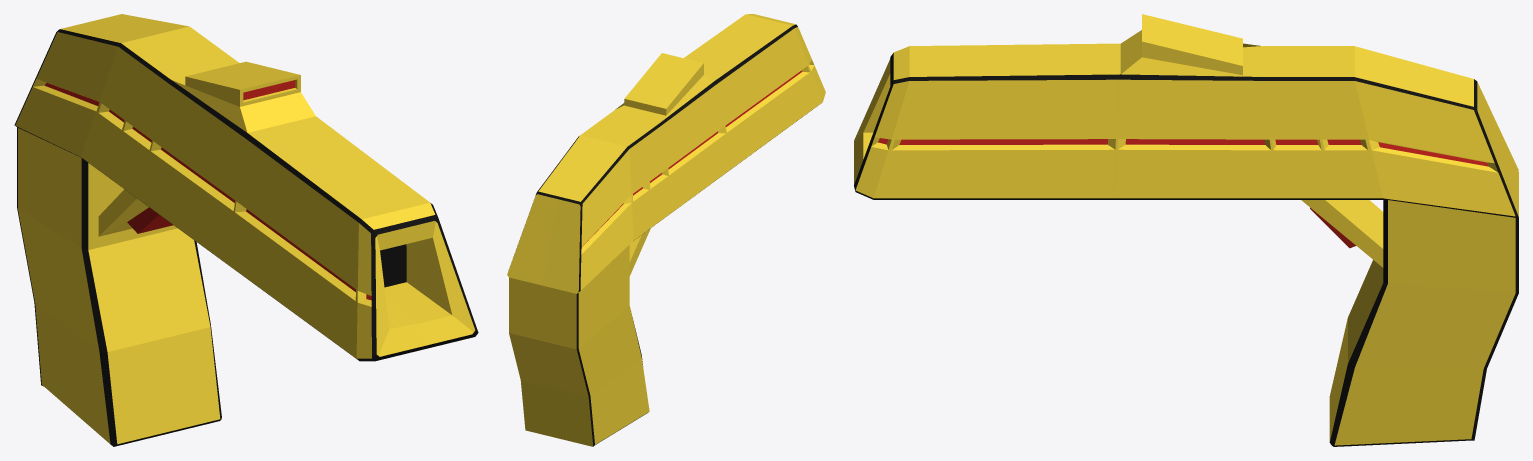
File: Pistol.fbx
3 renders of one model, left to right at view 1: azimuth 30°, elevation 25°; view 2: azimuth 150°, elevation 25°; view 3: azimuth 270°, elevation 25°, orthographic. The views are drawn at different scales.
Parts seen in each view (by area): view 1: Pistol; view 2: Pistol; view 3: Pistol.
Part boxes in pixels (box(x1,y1,x2,y2)): Pistol: box(14, 14, 478, 446); Pistol: box(507, 14, 825, 446); Pistol: box(854, 14, 1518, 446).
Bounding box in the file's own units: 6.68 × 23.2 × 35.36.
